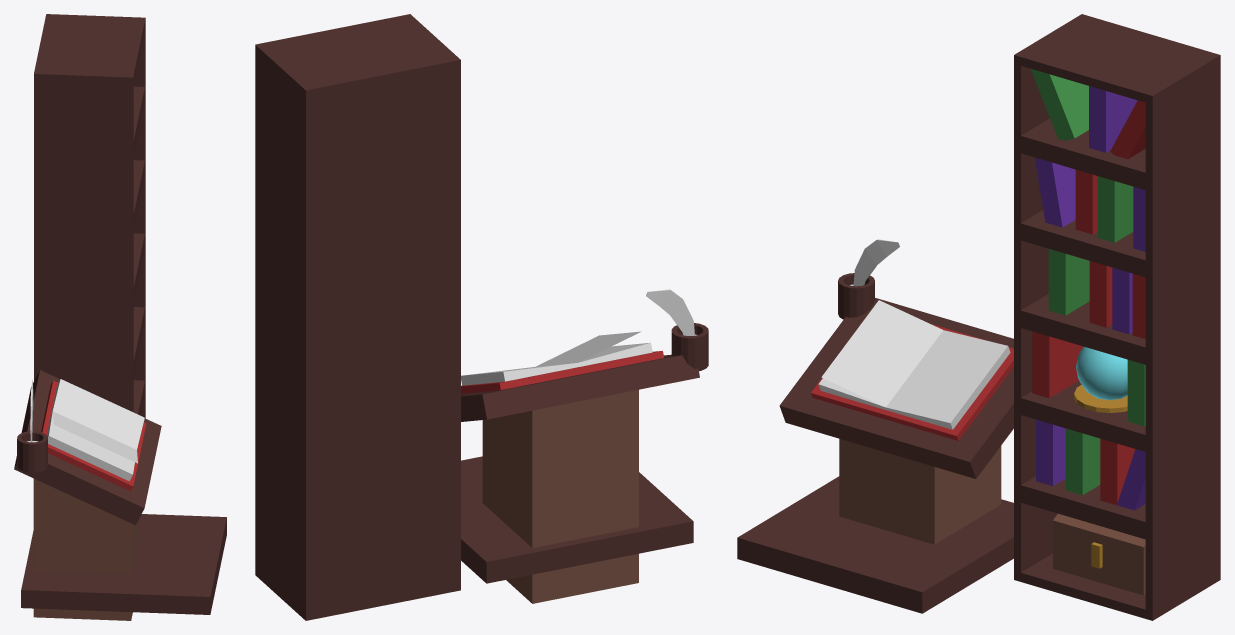
Rendered from workstation_library_v1.fbx.
The picture shows the model from 3 angles, left to right: view 1: azimuth 30°, elevation 25°; view 2: azimuth 150°, elevation 25°; view 3: azimuth 270°, elevation 25°; orthographic projection. The views are drawn at different scales.
Visible parts, largest first — view 1: Cube.012, Cube.009, Cube.006, Cube.007, Cube.034, Cube.008, Cube.011, Cube.010, Cylinder.014; view 2: Cube.012, Cube.011, Cube.009, Cube.007, Cube.006, Cube.008, Cube.034, Cube.010, Cylinder.014, Cube.054; view 3: Cube.012, Cube.011, Cube.009, Cube.006, Cube.034, Cube.008, Cube.007, Cube.052, Cube.010, Cube.049, Cube.035, Cube.047 (+18 smaller).
Part boxes in pixels (x1,y1,x2,y2): Cube.012: (34, 14, 145, 225); Cube.009: (34, 166, 145, 371); Cube.006: (21, 514, 226, 614); Cube.007: (33, 478, 139, 620); Cube.034: (47, 379, 144, 481); Cube.008: (14, 370, 161, 525); Cube.011: (34, 312, 145, 418); Cube.010: (41, 380, 146, 491); Cylinder.014: (17, 431, 47, 472); Cube.012: (255, 14, 460, 267); Cube.011: (255, 398, 460, 620); Cube.009: (255, 221, 460, 443); Cube.007: (482, 389, 638, 603); Cube.006: (461, 456, 693, 583); Cube.008: (461, 354, 699, 421); Cube.034: (461, 331, 652, 385); Cube.010: (461, 351, 663, 393); Cylinder.014: (671, 323, 708, 371); Cube.054: (646, 289, 694, 335); Cube.012: (1014, 14, 1220, 271); Cube.011: (1014, 405, 1220, 620); Cube.009: (1014, 230, 1220, 446); Cube.006: (737, 476, 1013, 613); Cube.034: (818, 300, 1010, 429); Cube.008: (779, 298, 1013, 478); Cube.007: (839, 438, 1001, 544); Cube.052: (1053, 513, 1145, 595); Cube.010: (811, 324, 1013, 440); Cube.049: (1031, 69, 1088, 140); Cube.035: (1032, 331, 1083, 398); Cube.047: (1048, 249, 1089, 315).
Size of the model in its own units: 179 by 321 by 251.
